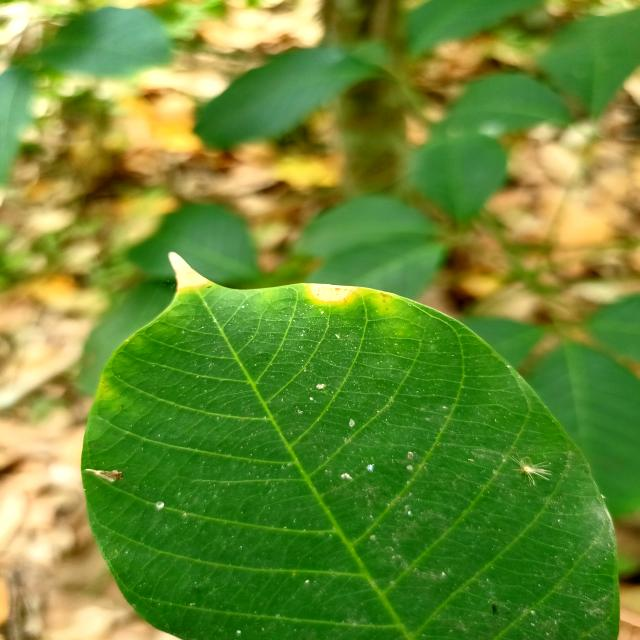Leaf-Blight: (168, 251, 209, 289), (307, 283, 359, 302)
